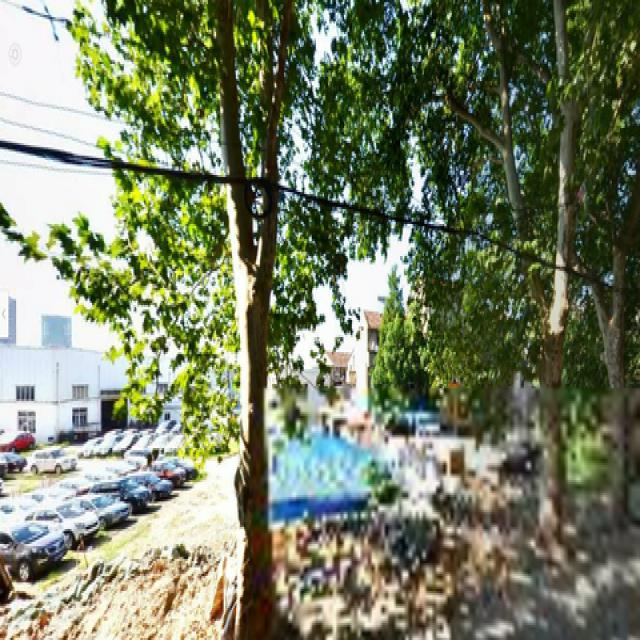meta: (99, 22, 298, 584), (400, 42, 564, 376)
